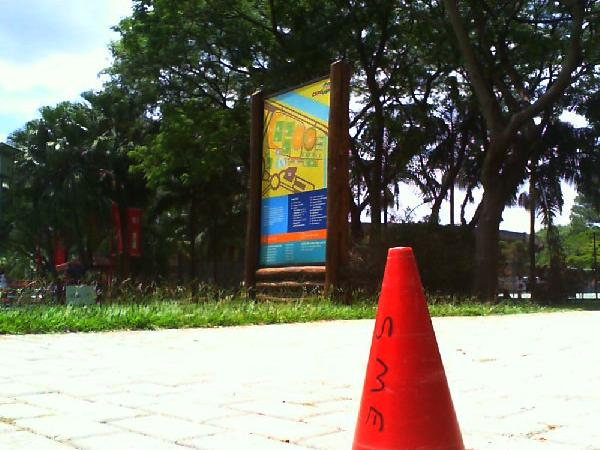0 cone: (328, 247, 489, 450)
